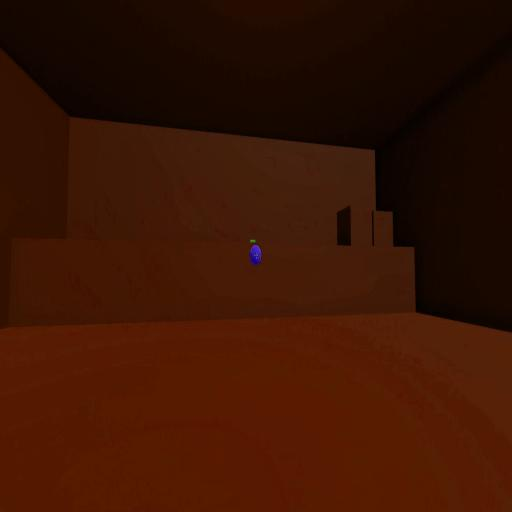Crosshair: (254, 252, 258, 260)
Target: (250, 244, 262, 266)
